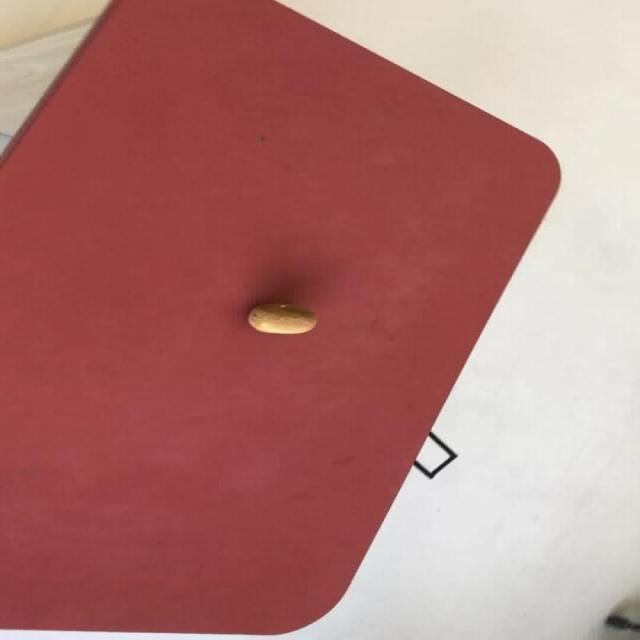Kiwi: (246, 302, 316, 334)
